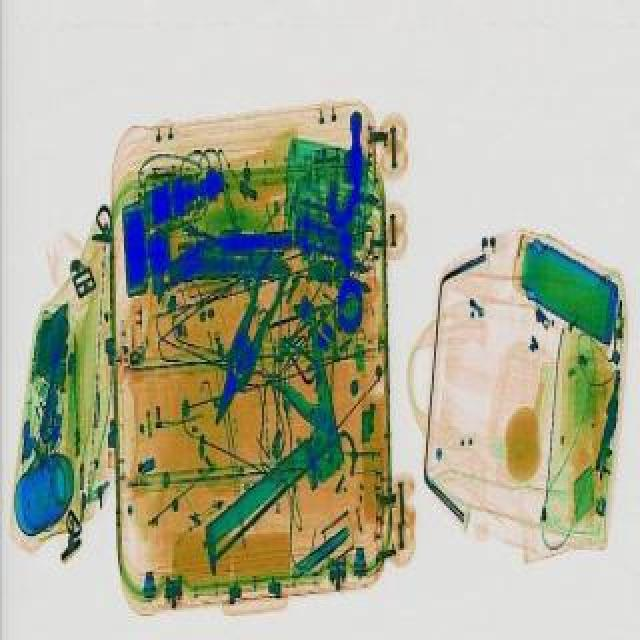wrench: (200, 240, 300, 424)
